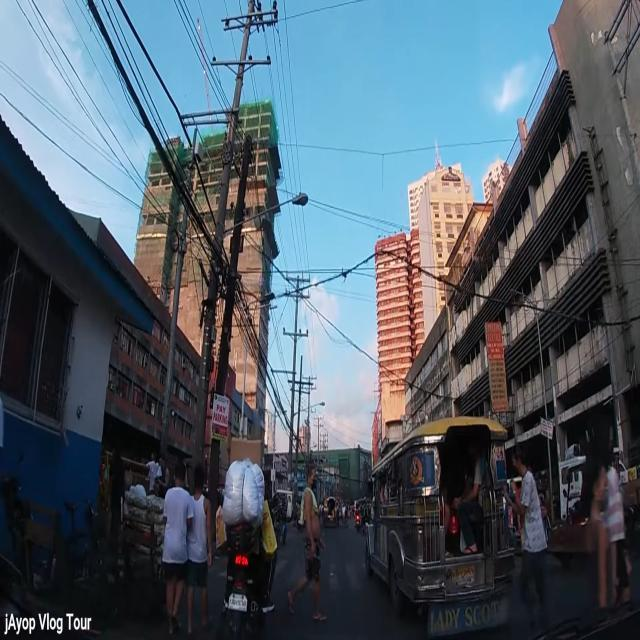jeepney: (360, 417, 504, 629), (324, 496, 341, 528)
motorcycle: (216, 433, 278, 640), (354, 502, 360, 534)
truck: (559, 452, 631, 522)
